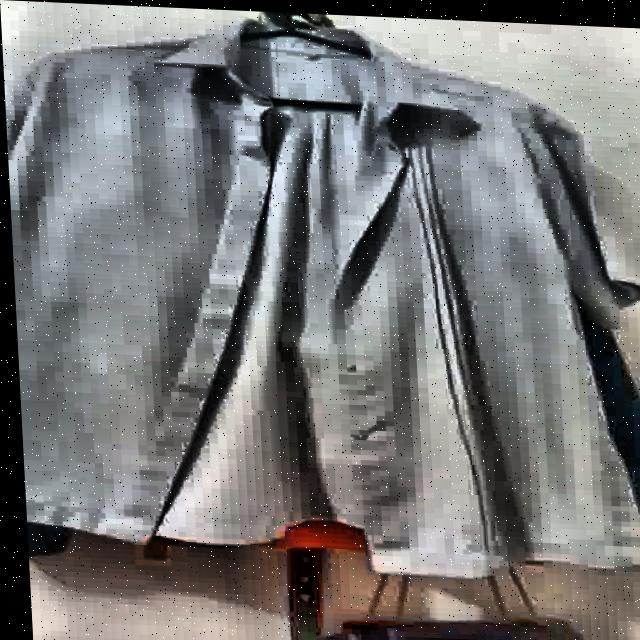clothes: (3, 2, 640, 594)
